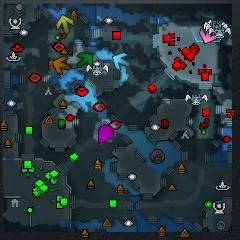p3: (98, 124, 114, 143)
x1: (200, 28, 216, 43)
x2: (56, 15, 74, 33)
x3: (113, 53, 130, 70)
x4: (78, 52, 93, 68)
x5: (53, 56, 71, 74)
